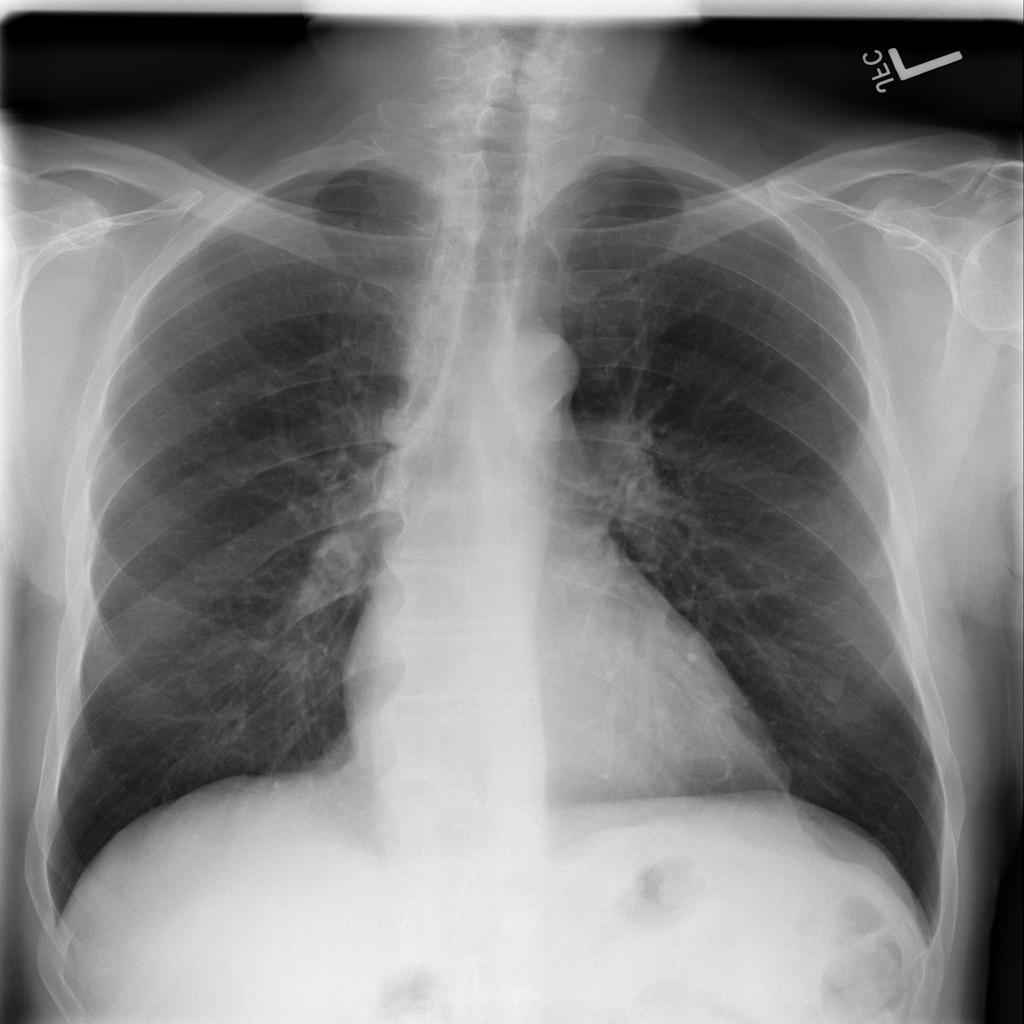nodule: (808, 662, 861, 711)
